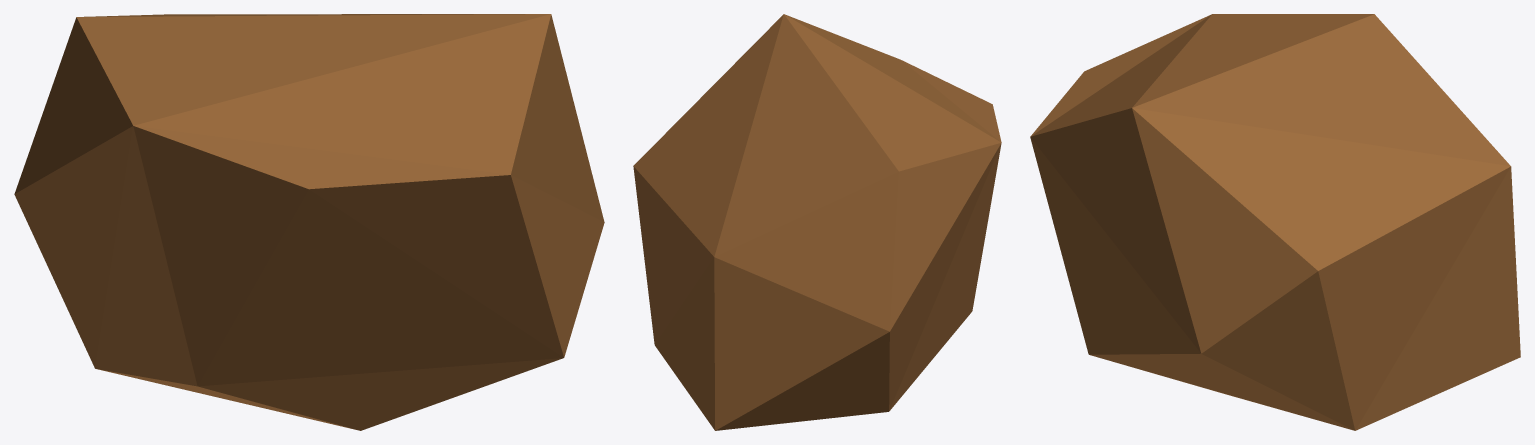
Rendered from CopperPieceBig.fbx.
3 views of the same model, side by side, from view 1: azimuth 30°, elevation 25°; view 2: azimuth 150°, elevation 25°; view 3: azimuth 270°, elevation 25° (orthographic). The views are drawn at different scales.
Visible parts, largest first — view 1: CopperPieceBig; view 2: CopperPieceBig; view 3: CopperPieceBig.
Part boxes in pixels (x1,y1,x2,y2): CopperPieceBig: (14,14,604,430); CopperPieceBig: (633,14,1001,430); CopperPieceBig: (1030,14,1520,430).
Size of the model in its own units: 4.64 by 4.05 by 5.36.
